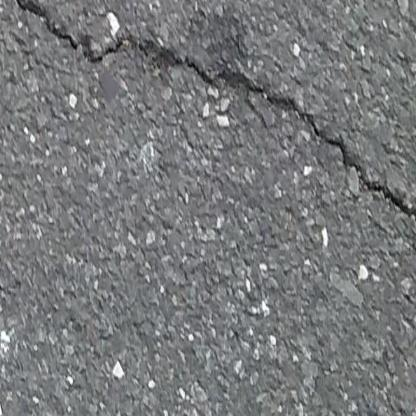Cracks: (0, 0, 416, 175)
